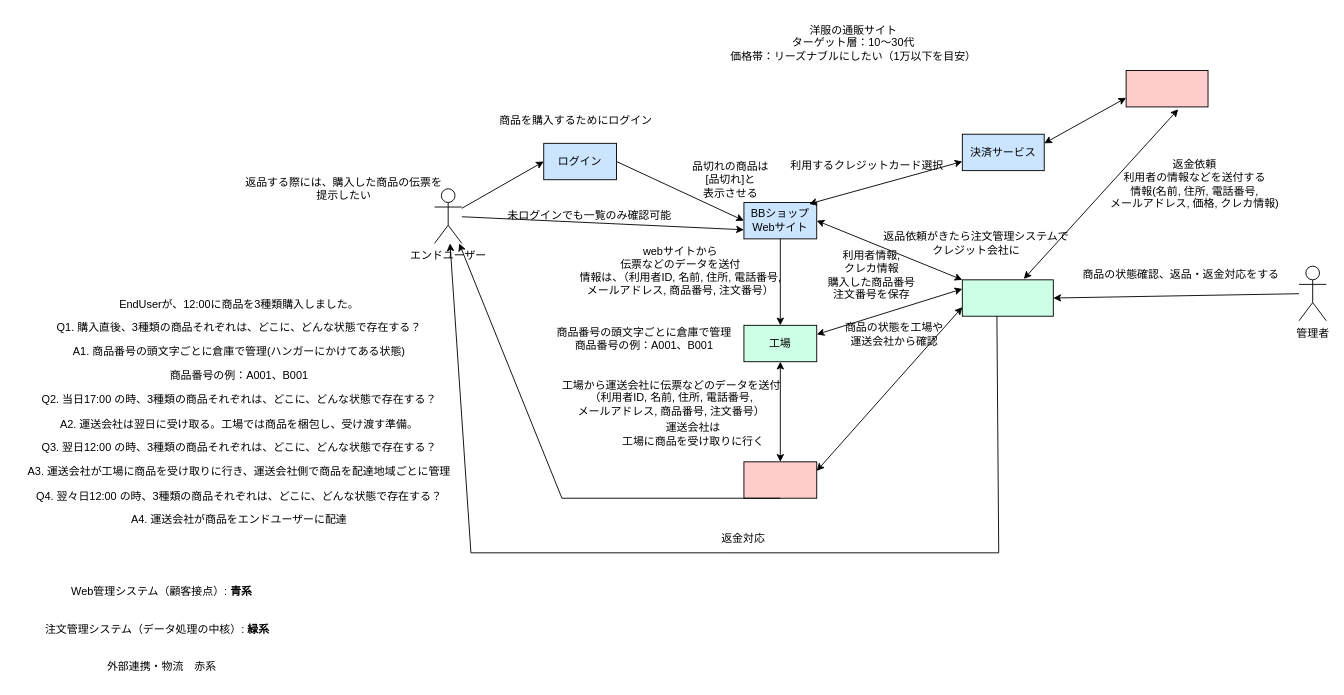
The diagram is 1344 pixels wide and 695 high, and some of its shapes have lost their labels. The shapes that lost their labels are listed below. From the top down, each one's centre as x and y in pixels, then its label:
At point 1166,88: "クレジット会社".
At point 1007,297: "BBショップ 注文管理システム".
At point 780,479: "運送会社".
